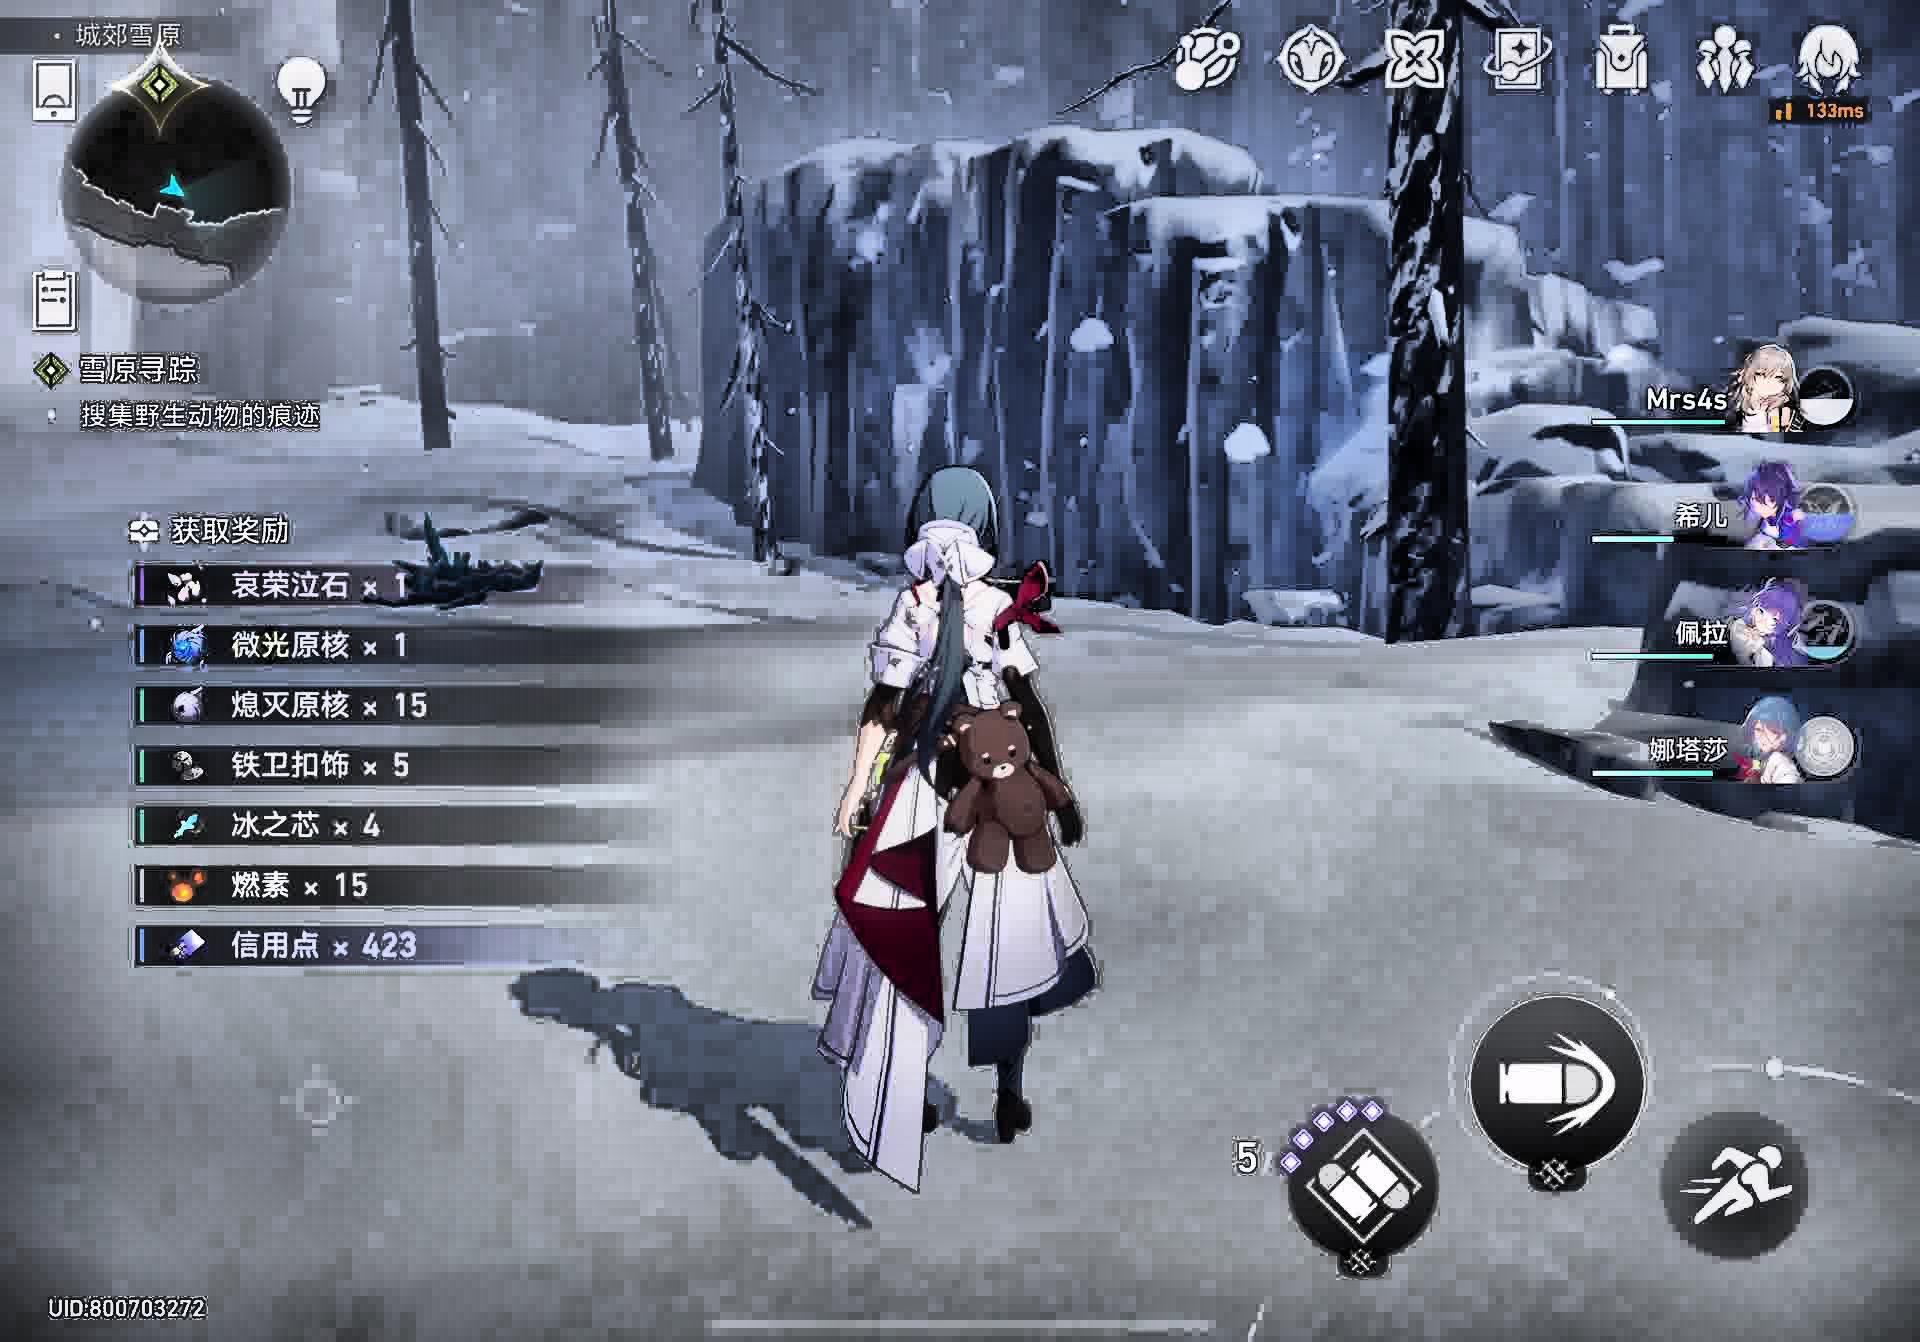Self: (818, 465, 1102, 1203)
